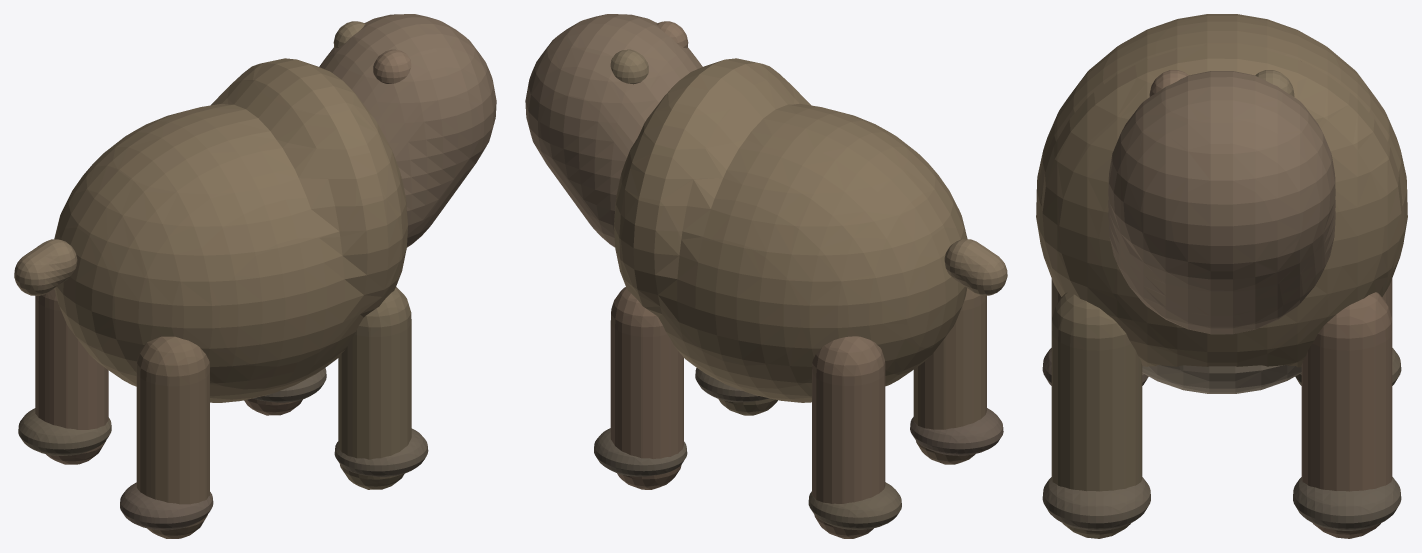
Rendered from bear.glb.
The picture shows the model from 3 angles, left to right: view 1: azimuth 30°, elevation 25°; view 2: azimuth 150°, elevation 25°; view 3: azimuth 270°, elevation 25°; orthographic projection. The views are drawn at different scales.
Visible parts, largest first — view 1: body|barrel, head|skull, legRR|leg, legFR|leg, legRL|leg, tail|tail, legRL|paw, legRR|paw, legFR|paw, earR|ear, legFL|paw, legFL|leg; view 2: body|barrel, head|skull, legRL|leg, legFL|leg, legRR|leg, tail|tail, legRR|paw, legRL|paw, legFL|paw, earL|ear, legFR|paw, legFR|leg; view 3: body|barrel, head|skull, legFL|leg, legFR|leg, legFL|paw, legFR|paw, body|belly, earL|ear, earR|ear.
Part boxes in pixels (left/top/right/bottom): body|barrel: left=54, top=58, right=407, bottom=402; head|skull: left=319, top=14, right=496, bottom=247; legRR|leg: left=136, top=336, right=209, bottom=538; legFR|leg: left=338, top=287, right=411, bottom=489; legRL|leg: left=35, top=288, right=108, bottom=464; tail|tail: left=14, top=239, right=77, bottom=295; legRL|paw: left=18, top=408, right=111, bottom=455; legRR|paw: left=120, top=482, right=213, bottom=530; legFR|paw: left=334, top=428, right=428, bottom=476; earR|ear: left=373, top=49, right=411, bottom=83; legFL|paw: left=253, top=367, right=326, bottom=402; legFL|leg: left=244, top=398, right=302, bottom=415; body|barrel: left=614, top=58, right=967, bottom=402; head|skull: left=525, top=14, right=702, bottom=247; legRL|leg: left=812, top=336, right=885, bottom=538; legFL|leg: left=610, top=287, right=683, bottom=489; legRR|leg: left=913, top=288, right=986, bottom=464; tail|tail: left=944, top=239, right=1007, bottom=295; legRR|paw: left=910, top=408, right=1003, bottom=455; legRL|paw: left=808, top=482, right=901, bottom=529; legFL|paw: left=594, top=428, right=687, bottom=476; earL|ear: left=610, top=49, right=648, bottom=84; legFR|paw: left=695, top=368, right=768, bottom=402; legFR|leg: left=718, top=398, right=777, bottom=415; body|barrel: left=1036, top=14, right=1407, bottom=374; head|skull: left=1108, top=71, right=1335, bottom=334; legFL|leg: left=1301, top=292, right=1392, bottom=538; legFR|leg: left=1051, top=292, right=1142, bottom=538; legFL|paw: left=1293, top=477, right=1401, bottom=530; legFR|paw: left=1042, top=477, right=1150, bottom=530; body|belly: left=1142, top=365, right=1301, bottom=393; earL|ear: left=1255, top=70, right=1294, bottom=96; earR|ear: left=1149, top=70, right=1188, bottom=96.
Size of the model in its own units: 2.92 by 2.43 by 1.63.
